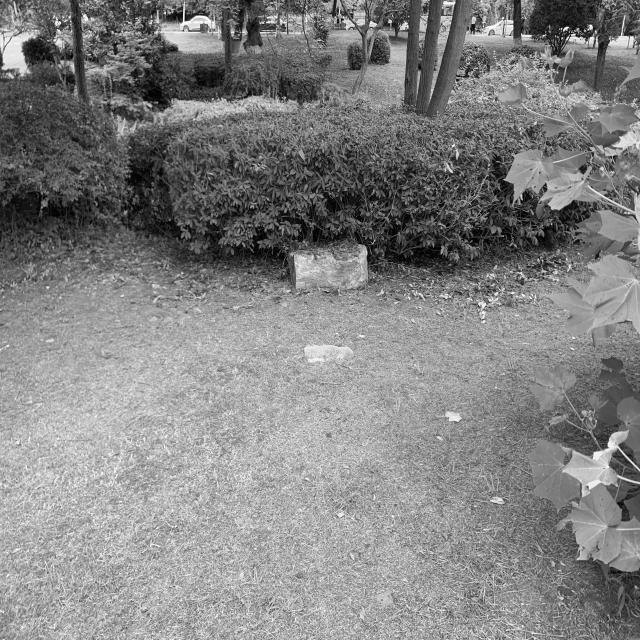Stone: (288, 245, 368, 289)
